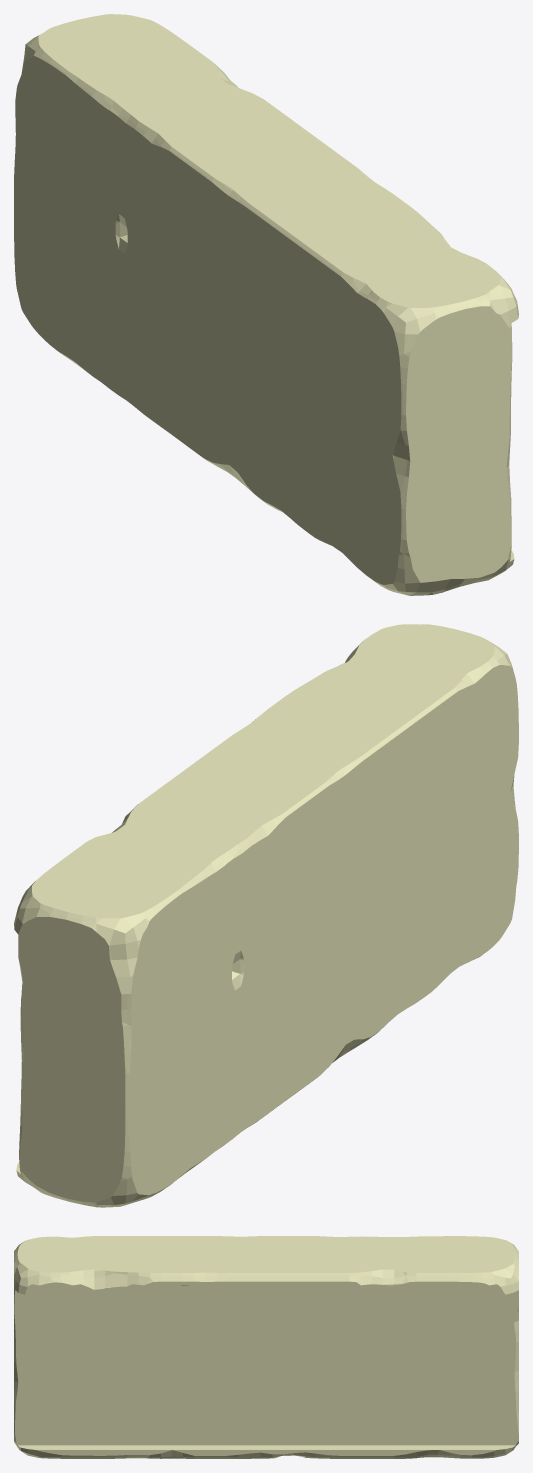
The model's file is ParedRocosa1.fbx.
3 views of the same model, one above another, from view 1: azimuth 30°, elevation 25°; view 2: azimuth 150°, elevation 25°; view 3: azimuth 270°, elevation 25° (orthographic). The views are drawn at different scales.
Visible parts, largest first — view 1: Cube.001_dmg; view 2: Cube.001_dmg; view 3: Cube.001_dmg.
Part boxes in pixels (x1,y1,x2,y2): Cube.001_dmg: [14, 14, 518, 595]; Cube.001_dmg: [14, 624, 518, 1207]; Cube.001_dmg: [14, 1236, 518, 1458].
Bounding box in the file's own units: 235 × 503 × 1237.
